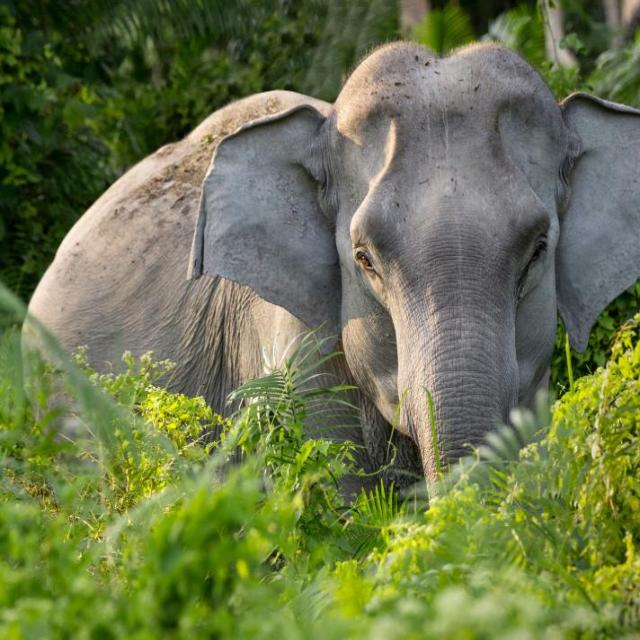Elephant: (15, 26, 640, 503)
